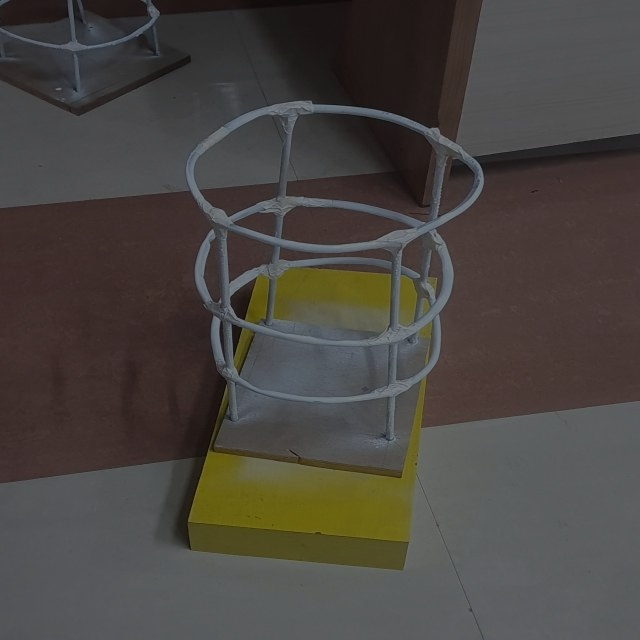silo: (177, 101, 489, 477)
